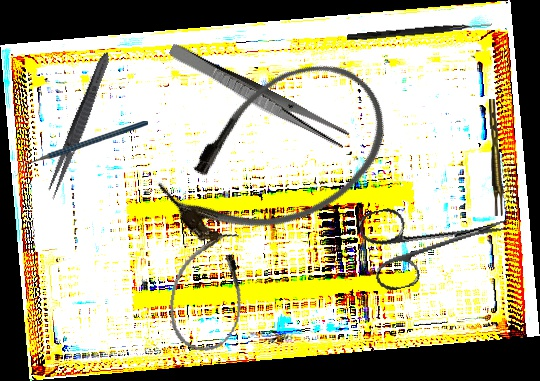Cannula: (139, 35, 414, 277), (162, 224, 255, 357)
Chopper: (15, 121, 148, 176)
Dressing Forceps: (164, 41, 352, 151), (43, 49, 115, 202)
Hook Surgical: (346, 19, 493, 43)
Iris Scissors: (356, 182, 519, 295)
Tissue Forceps: (488, 98, 504, 217)
